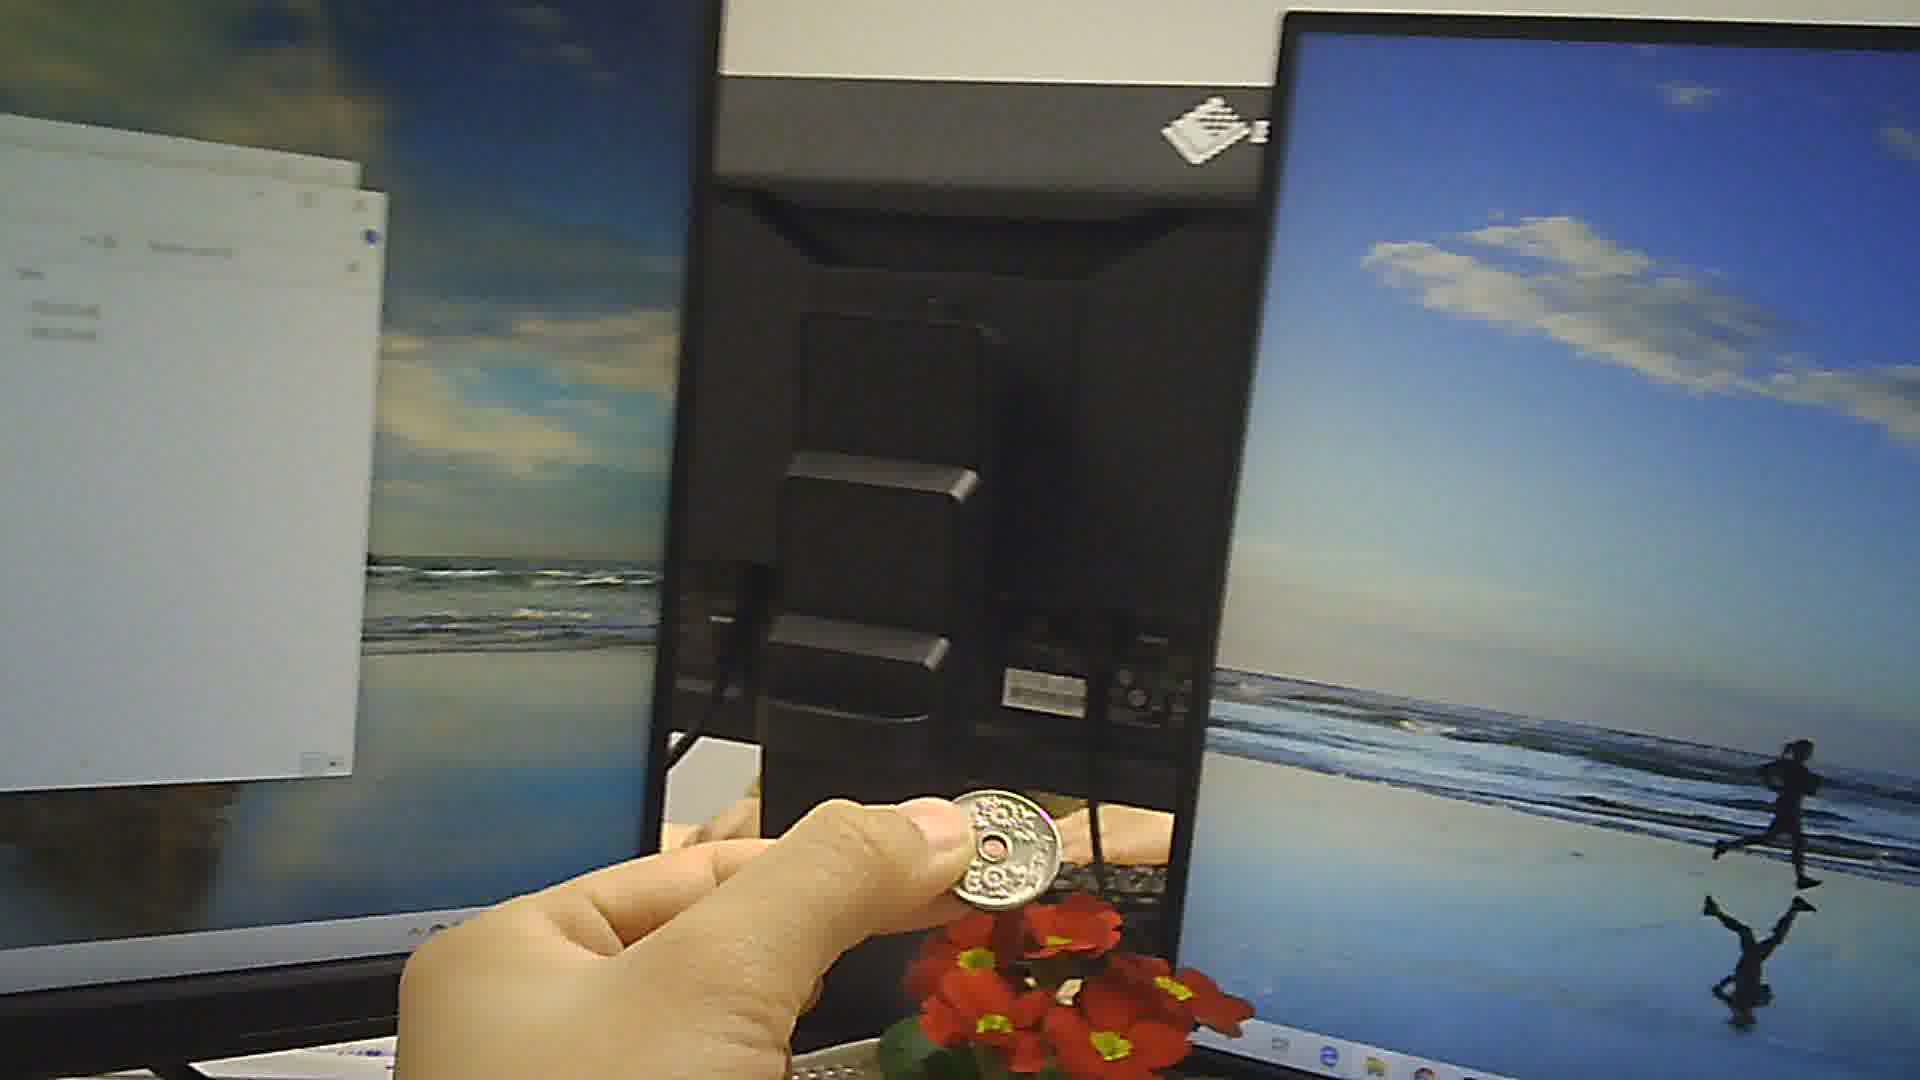50 Yen: (934, 781, 1064, 914)
